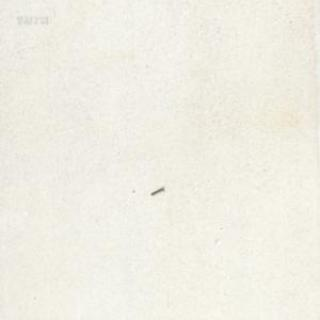Bolttrack_idkeyframe: (149, 184, 163, 195)
